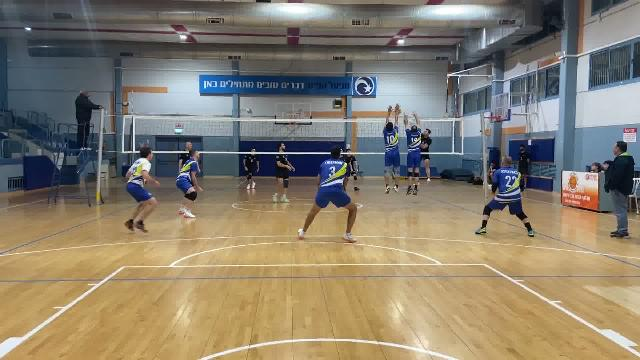ball: (393, 104, 405, 117)
